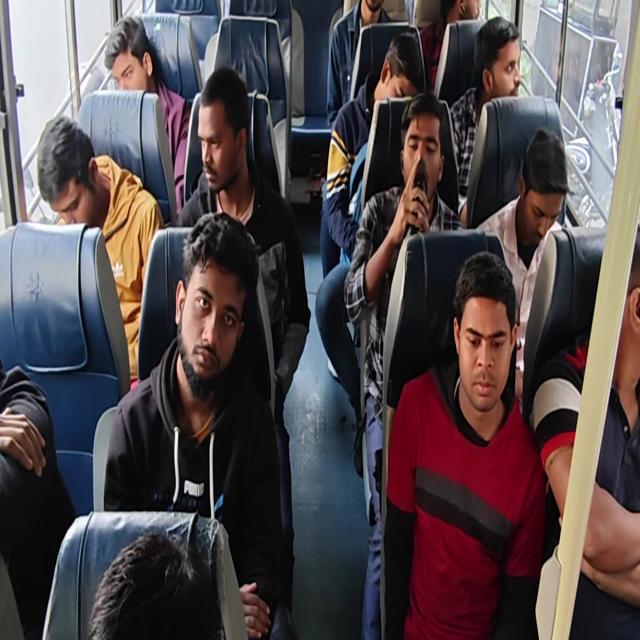person: (2, 1, 638, 638), (102, 210, 284, 638), (174, 66, 310, 626), (343, 91, 466, 638), (380, 250, 546, 638), (314, 31, 426, 471), (530, 222, 639, 638), (37, 115, 164, 388), (475, 126, 569, 409), (322, 31, 426, 266), (0, 353, 76, 638), (103, 13, 192, 213), (448, 16, 522, 222), (87, 530, 225, 638), (326, 0, 392, 129), (418, 0, 481, 92)
